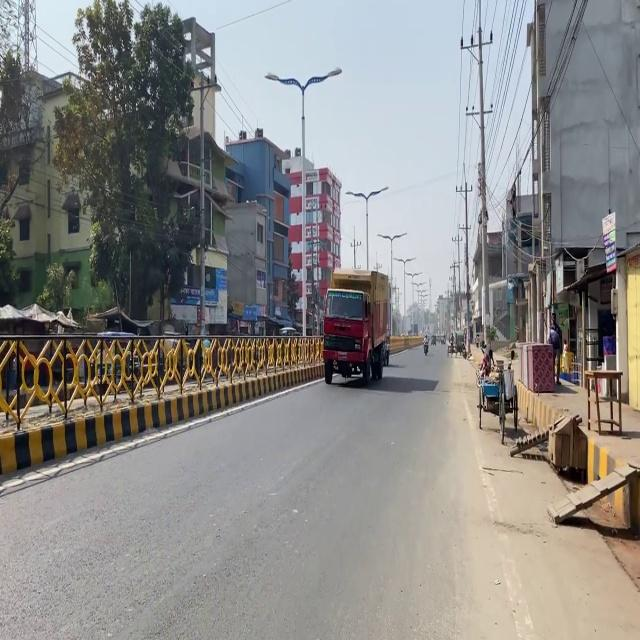Fallen-tree: (422, 335, 429, 355)
Garbage: (546, 464, 639, 537), (583, 369, 623, 435)
Garbage-bin: (548, 319, 562, 385)
Pole: (4, 316, 252, 470)
Pothole: (450, 341, 639, 638)
Traffic-cone: (321, 267, 390, 385), (476, 362, 518, 444)
